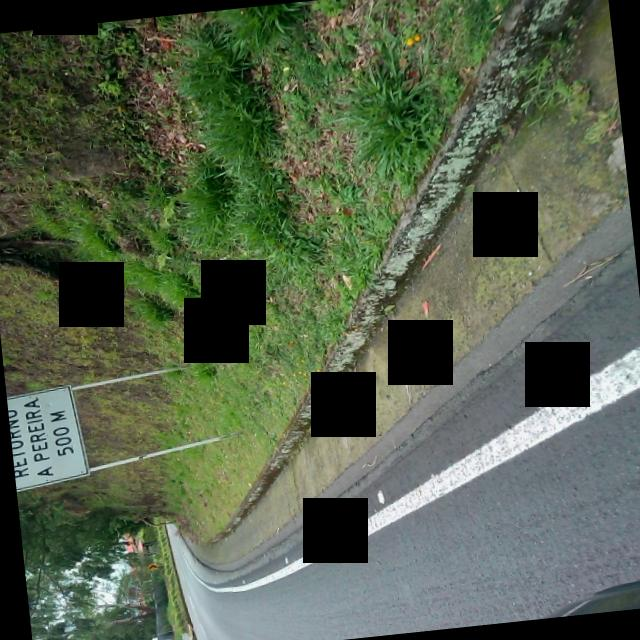DITCH: (113, 0, 640, 586)
